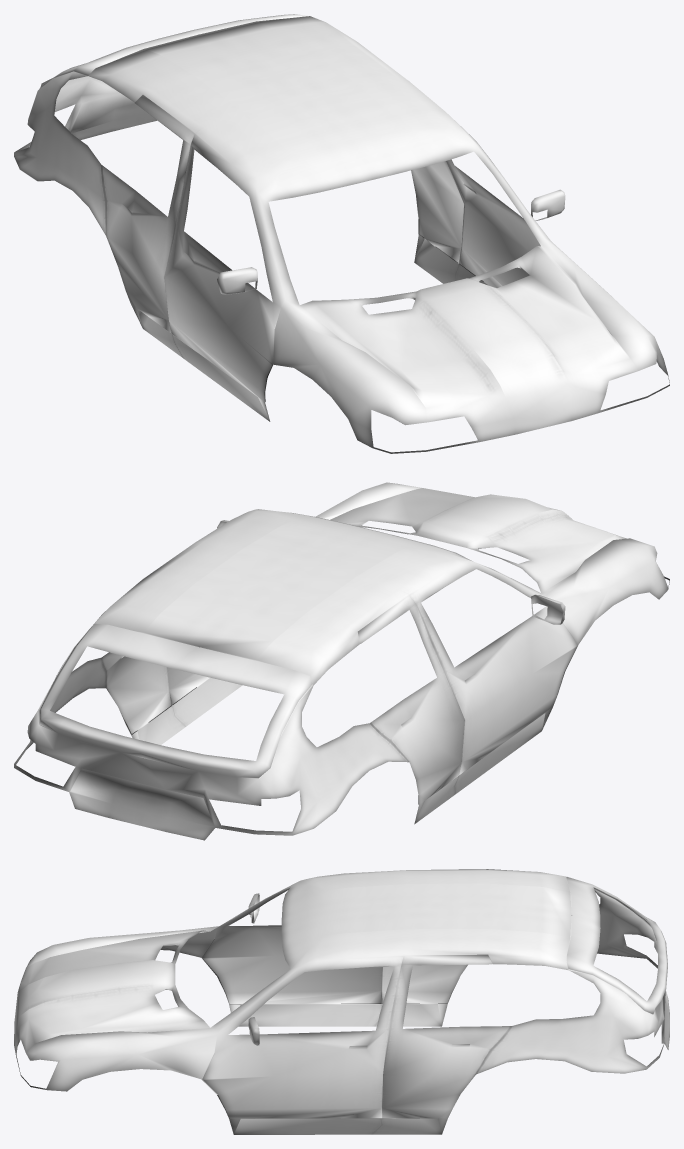
The model's file is LK4_body_d3.obj.
3 views of the same model, one above another, from view 1: azimuth 30°, elevation 25°; view 2: azimuth 150°, elevation 25°; view 3: azimuth 270°, elevation 25° (orthographic). The views are drawn at different scales.
Parts seen in each view (by area): view 1: LK4_body_LK4_body_DefaultMaterial; view 2: LK4_body_LK4_body_DefaultMaterial; view 3: LK4_body_LK4_body_DefaultMaterial.
Boxes of the visible parts, <box> form: LK4_body_LK4_body_DefaultMaterial: <box>14,14,669,453</box>; LK4_body_LK4_body_DefaultMaterial: <box>14,482,669,840</box>; LK4_body_LK4_body_DefaultMaterial: <box>14,869,669,1134</box>.
Size of the model in its own units: 2.07 by 1.23 by 4.16.
Materials: 1 (1 with a texture image).
